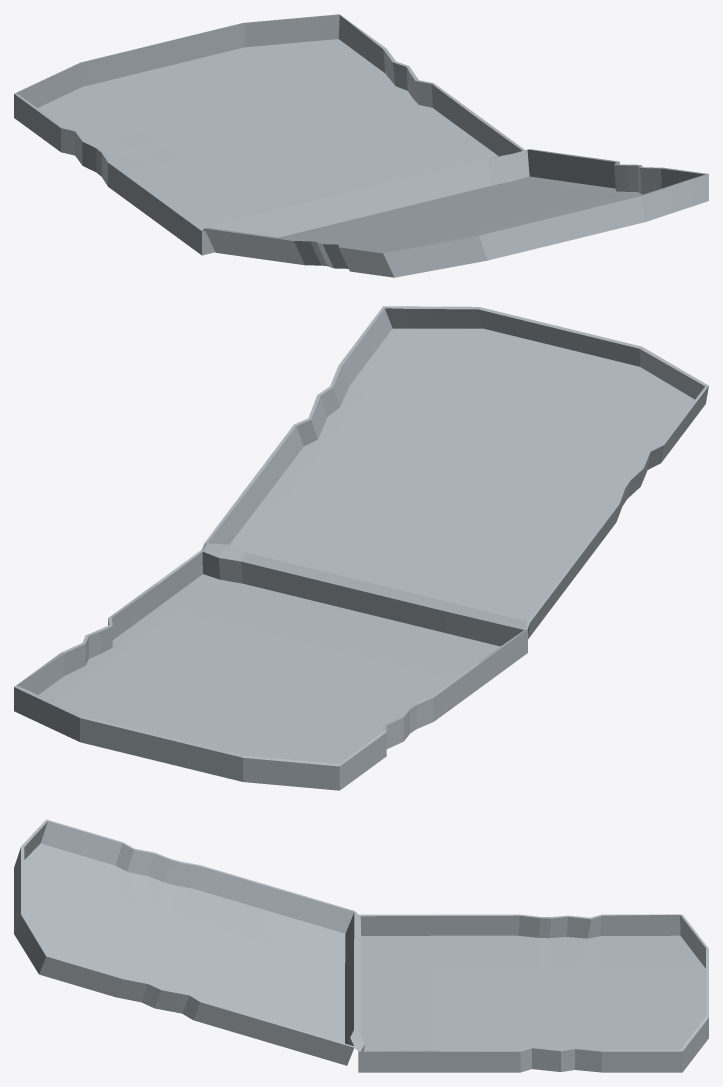
Rendered from CajaPizza_01.fbx.
3 renders of one model, top to bottom at view 1: azimuth 30°, elevation 25°; view 2: azimuth 150°, elevation 25°; view 3: azimuth 270°, elevation 25°, orthographic. The views are drawn at different scales.
Visible parts, largest first — view 1: CajaPizza_01; view 2: CajaPizza_01; view 3: CajaPizza_01.
Boxes of the visible parts, x1,y1,x2,y2 form: CajaPizza_01: [14, 14, 708, 277]; CajaPizza_01: [14, 306, 708, 790]; CajaPizza_01: [14, 819, 708, 1072].
Size of the model in its own units: 64.09 by 26.94 by 137.
